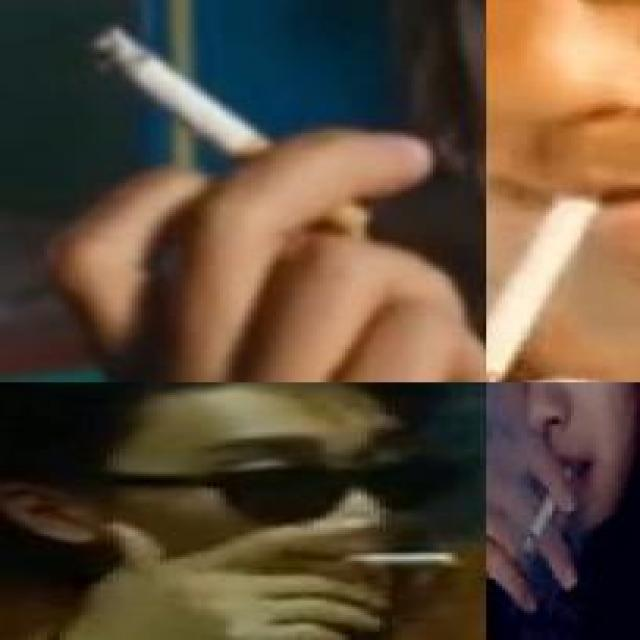cigarette: (92, 23, 368, 239), (487, 189, 602, 380), (520, 458, 578, 560), (331, 550, 456, 568)
